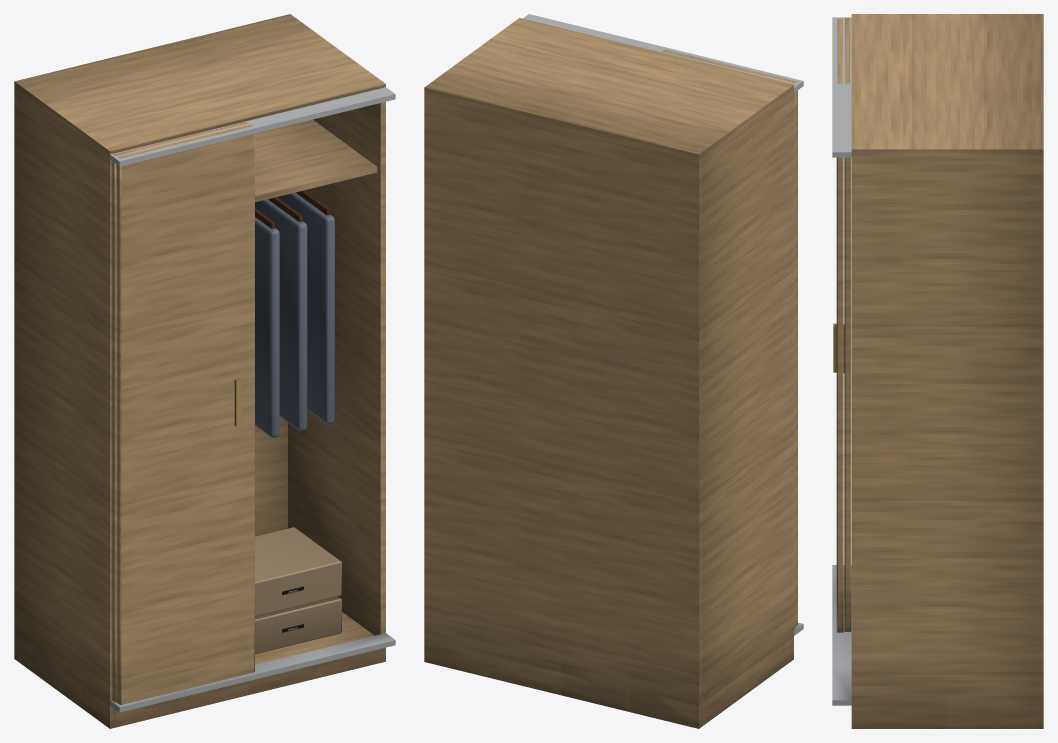
File: wardrobe_open.glb
The picture shows the model from 3 angles, left to right: view 1: azimuth 30°, elevation 25°; view 2: azimuth 150°, elevation 25°; view 3: azimuth 270°, elevation 25°; orthographic projection.
Parts seen in each view (by area): view 1: body; view 2: body; view 3: body.
Part boxes in pixels (x1,y1,x2,y2): body: (14,14,395,728); body: (424,14,803,728); body: (832,14,1043,728).
Size of what is drawn, in the model's own units: 1 by 2 by 0.66.
Materials: 8 (4 with a texture image).
